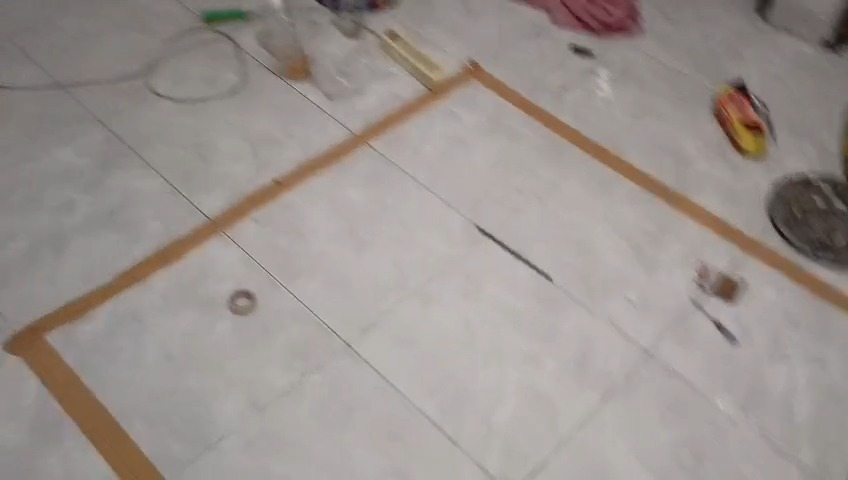floor marking: (4, 61, 847, 479)
